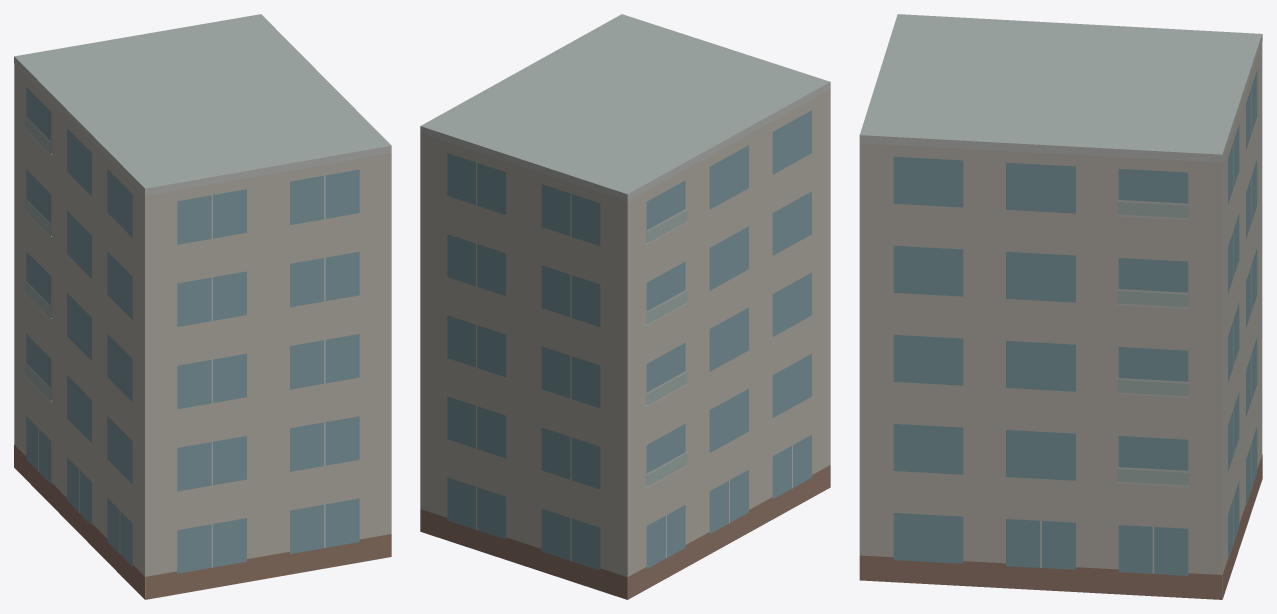
Rendered from survey-upis-32683720.glb.
The picture shows the model from 3 angles, left to right: view 1: azimuth 30°, elevation 25°; view 2: azimuth 150°, elevation 25°; view 3: azimuth 270°, elevation 25°; orthographic projection. The views are drawn at different scales.
Visible parts, largest first — view 1: survey-upis-32683720.tmp; view 2: survey-upis-32683720.tmp; view 3: survey-upis-32683720.tmp.
Part boxes in pixels (bbox=[...]): survey-upis-32683720.tmp: bbox=[14, 14, 391, 599]; survey-upis-32683720.tmp: bbox=[420, 14, 830, 599]; survey-upis-32683720.tmp: bbox=[859, 14, 1262, 599].
Bounding box in the file's own units: 9.22 × 13.6 × 11.16.
